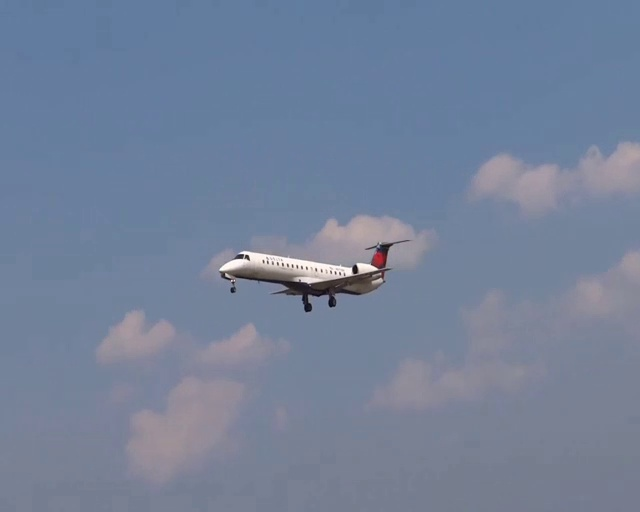AIRPLANE: (218, 241, 413, 312)
